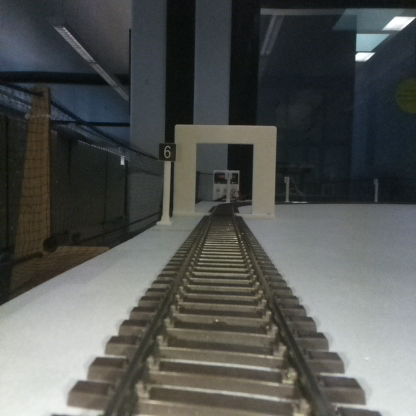black-info-6: (158, 142, 176, 224)
